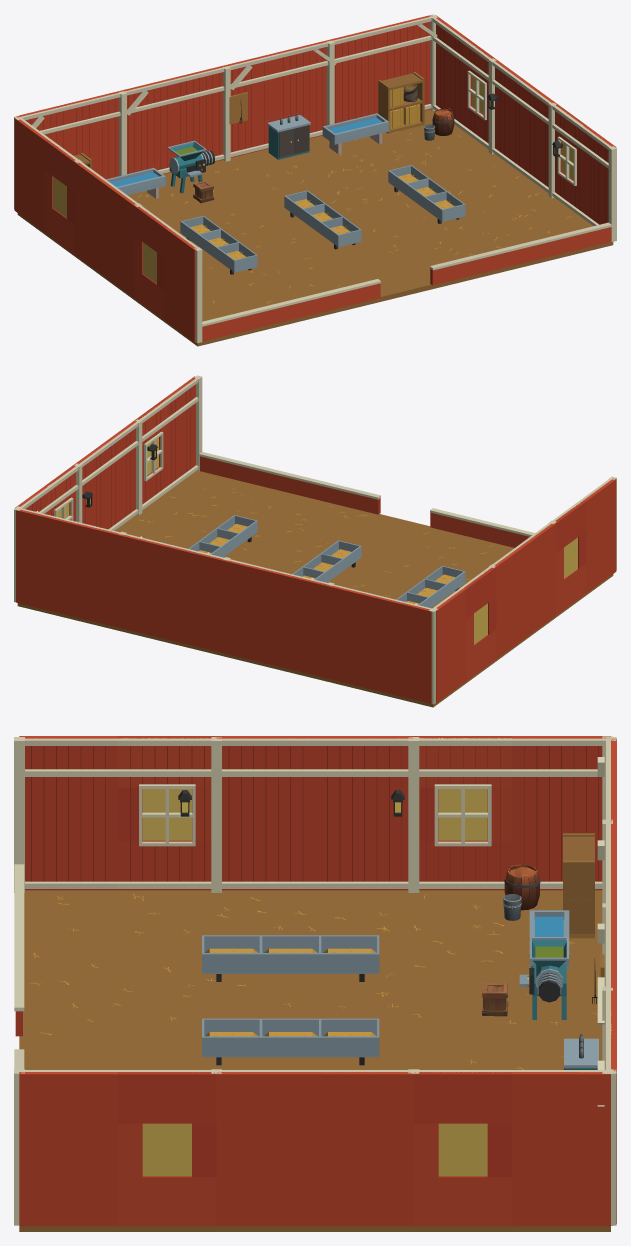
File: BarnInterior_Lv2.fbx
The picture shows the model from 3 angles, top to bottom: view 1: azimuth 30°, elevation 25°; view 2: azimuth 150°, elevation 25°; view 3: azimuth 270°, elevation 25°; orthographic projection. The views are drawn at different scales.
Parts seen in each view (by area): view 1: Lv2_Floor.001, Lv2_FrontCutaway.001, N01_Wall_2m.035, N01_Wall_2m.031, N01_Wall_2m.032, N01_Wall_2m.034, N01_Wall_2m.033, N01_Wall_2m.030, N01_Wall_2m.037, N01_Wall_2m.038, N01_Wall_2m.039, N01_WindowWall_2m.010 (+28 smaller); view 2: Lv2_Floor.001, Lv2_FrontCutaway.001, N01_Wall_2m.031, N01_Wall_2m.030, N01_Wall_2m.032, N01_Wall_2m.034, N01_Wall_2m.033, N01_Wall_2m.029, N01_Wall_2m.035, N01_Wall_2m.036, N01_Wall_2m.037, N01_Wall_2m.039 (+15 smaller); view 3: Lv2_Floor.001, N01_Wall_2m.042, N01_Wall_2m.041, N01_WindowWall_2m.012, N01_Wall_2m.043, N01_WindowWall_2m.011, N01_Wall_2m.044, N01_Wall_2m.038, N01_Wall_2m.037, N01_WindowWall_2m.010, N01_Wall_2m.039, N01_WindowWall_2m.009 (+15 smaller).
Boxes of the visible parts, left/top/right/bottom form: Lv2_Floor.001: left=17, top=109, right=613, bottom=346; Lv2_FrontCutaway.001: left=202, top=222, right=611, bottom=341; N01_Wall_2m.035: left=328, top=27, right=382, bottom=123; N01_Wall_2m.031: left=120, top=78, right=174, bottom=174; N01_Wall_2m.032: left=172, top=65, right=224, bottom=161; N01_Wall_2m.034: left=276, top=40, right=328, bottom=138; N01_Wall_2m.033: left=224, top=53, right=278, bottom=157; N01_Wall_2m.030: left=68, top=91, right=120, bottom=179; N01_Wall_2m.037: left=164, top=226, right=198, bottom=342; N01_Wall_2m.038: left=104, top=183, right=138, bottom=298; N01_Wall_2m.039: left=74, top=161, right=109, bottom=276; N01_WindowWall_2m.010: left=44, top=139, right=78, bottom=254; Lv2_Floor.001: left=17, top=471, right=613, bottom=707; Lv2_FrontCutaway.001: left=199, top=452, right=534, bottom=547; N01_Wall_2m.031: left=275, top=571, right=329, bottom=678; N01_Wall_2m.030: left=327, top=584, right=382, bottom=691; N01_Wall_2m.032: left=223, top=559, right=278, bottom=665; N01_Wall_2m.034: left=119, top=534, right=174, bottom=640; N01_Wall_2m.033: left=171, top=546, right=224, bottom=652; N01_Wall_2m.029: left=379, top=596, right=431, bottom=703; N01_Wall_2m.035: left=68, top=520, right=120, bottom=627; N01_Wall_2m.036: left=16, top=508, right=70, bottom=615; N01_Wall_2m.037: left=581, top=478, right=616, bottom=593; N01_Wall_2m.039: left=492, top=544, right=526, bottom=659; Lv2_Floor.001: left=19, top=890, right=610, bottom=1231; N01_Wall_2m.042: left=216, top=1070, right=315, bottom=1226; N01_Wall_2m.041: left=19, top=1070, right=117, bottom=1226; N01_WindowWall_2m.012: left=414, top=1070, right=512, bottom=1226; N01_Wall_2m.043: left=315, top=1070, right=413, bottom=1226; N01_WindowWall_2m.011: left=118, top=1070, right=216, bottom=1226; N01_Wall_2m.044: left=512, top=1070, right=610, bottom=1226; N01_Wall_2m.038: left=216, top=736, right=315, bottom=890; N01_Wall_2m.037: left=19, top=736, right=117, bottom=890; N01_WindowWall_2m.010: left=414, top=736, right=512, bottom=890; N01_Wall_2m.039: left=315, top=736, right=413, bottom=890; N01_WindowWall_2m.009: left=118, top=736, right=216, bottom=890.
Size of the model in its own units: 16.26 by 3.58 by 12.23.
